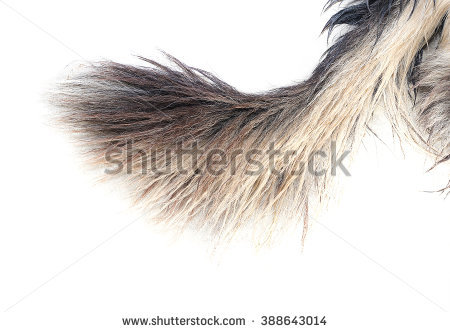tail: (46, 2, 443, 236)
